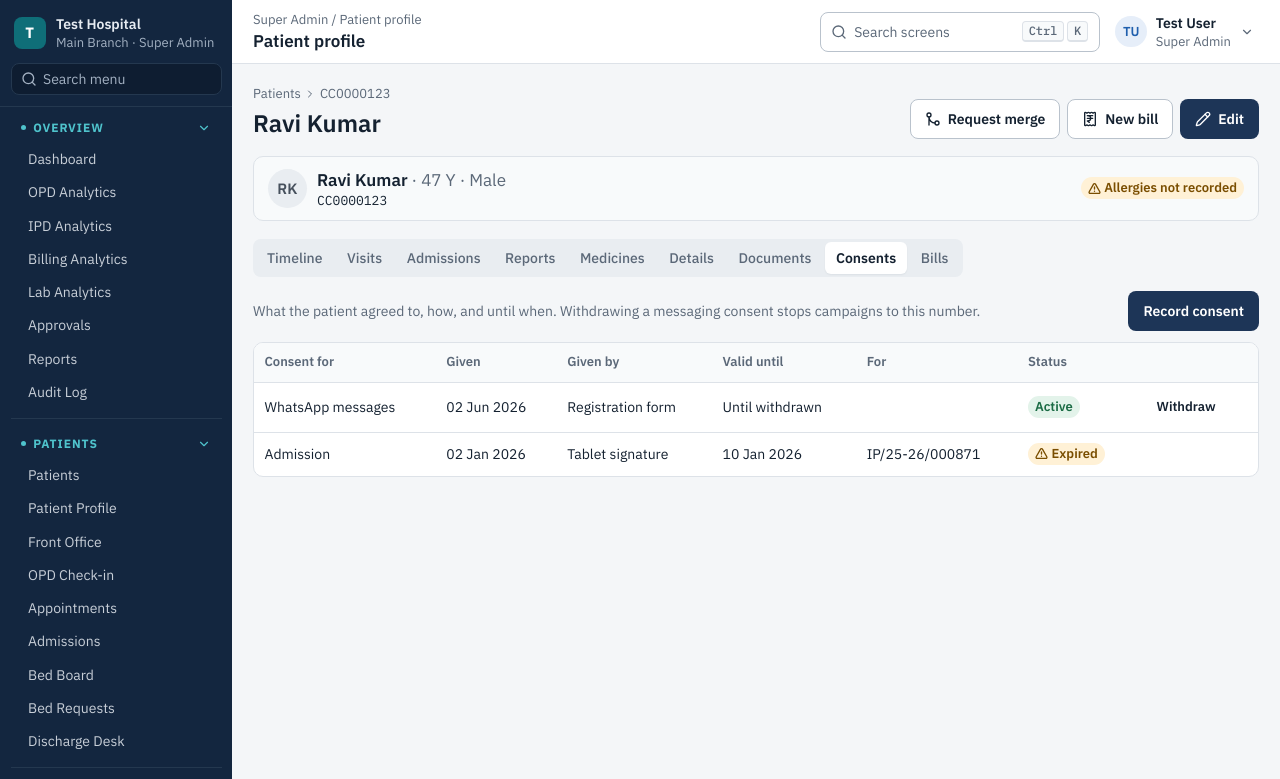
it: Patient consents › shows consents with validity and withdraws one with a reason
expect the text "Until withdrawn" is shown: met, box 712,382 -> 856,432
expect the text "Expired" is shown: met, box 1052,445 -> 1098,463
Click the button "Withdraw" at coordinates (1186, 407), box 1145,393 -> 1227,421
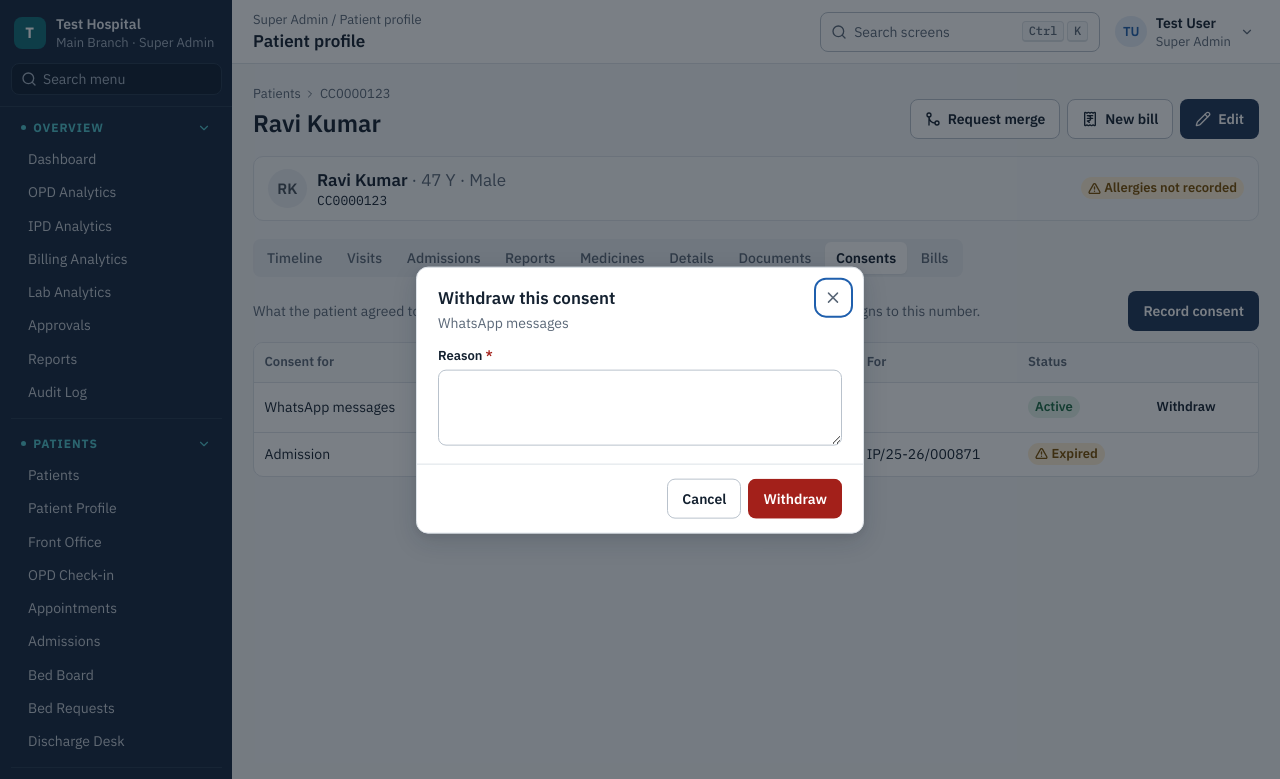
Type "Asked on the phone" into the text box labelled "Reason *" at coordinates (640, 408), box 438,370 -> 842,446
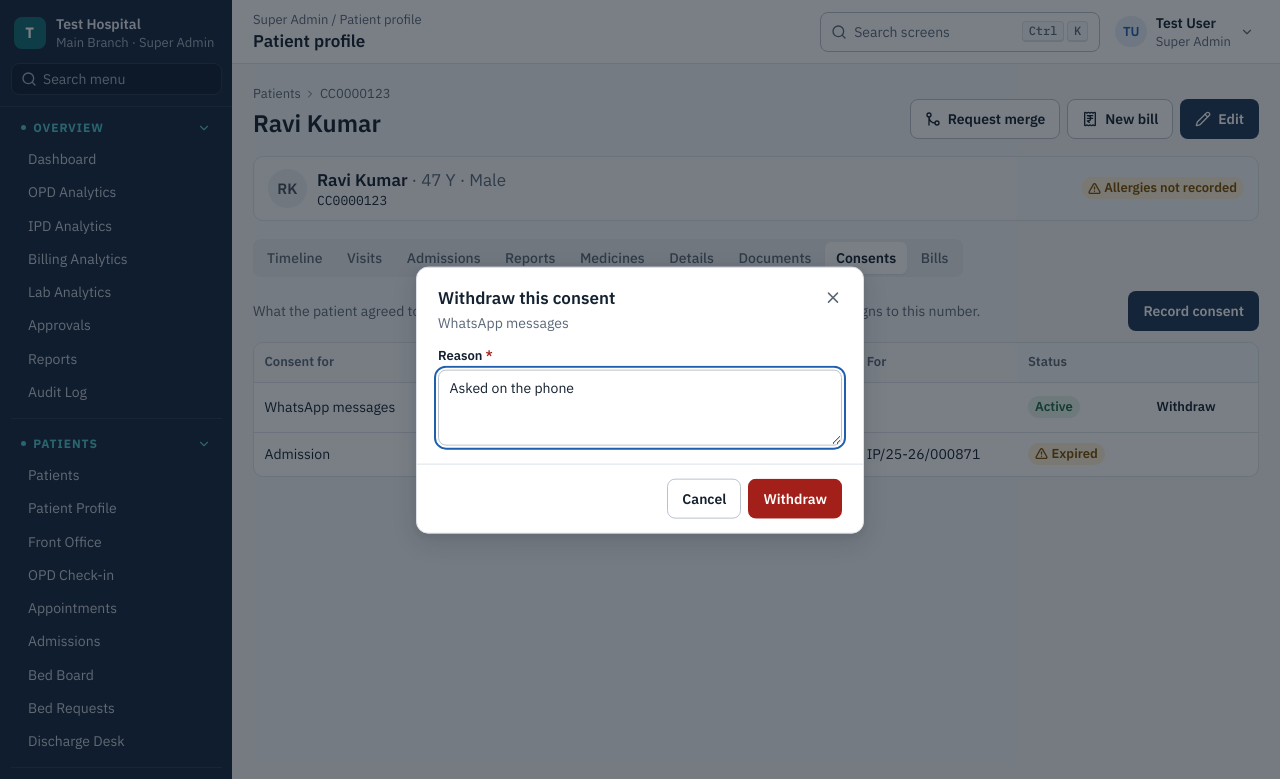
Click the button "Withdraw" at coordinates (795, 498), box 748,478 -> 842,518
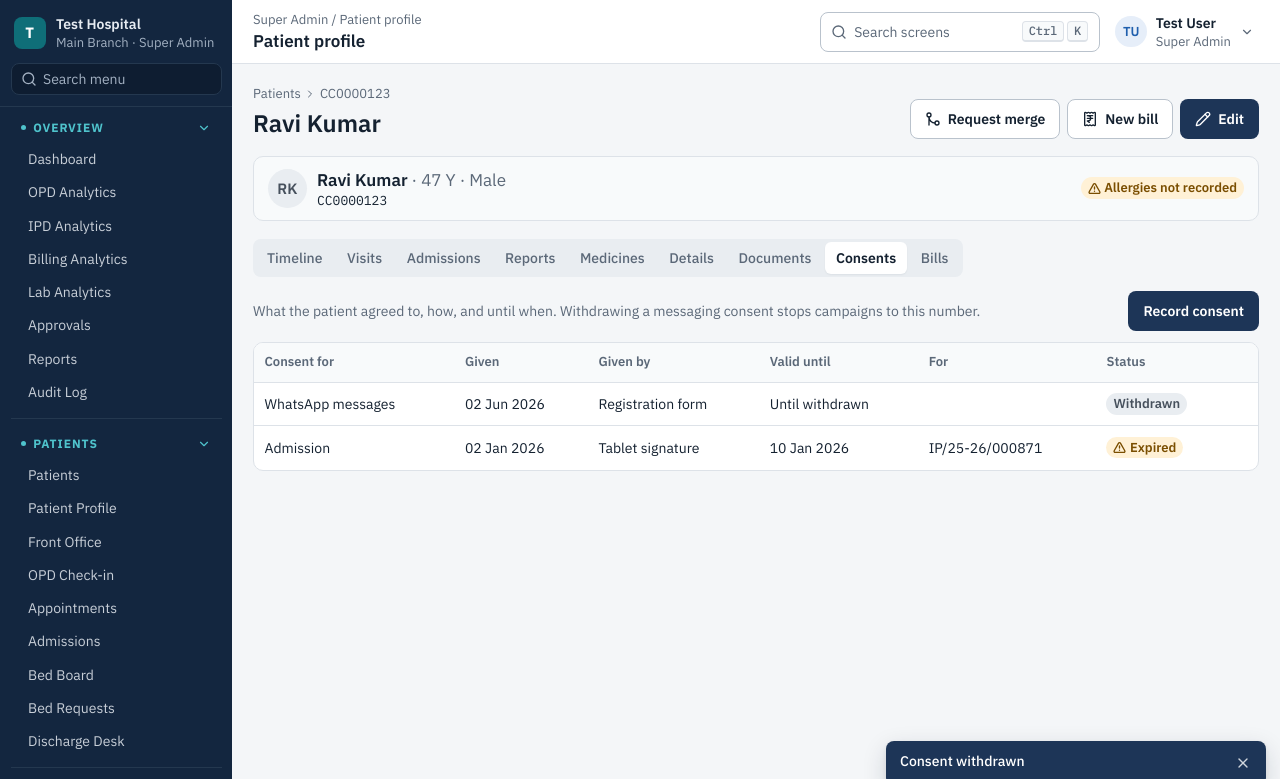
expect the text "Withdrawn" is shown: met, box 1114,395 -> 1180,413
